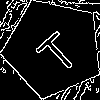T: (28, 23, 83, 78)
